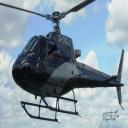helicopter: (7, 3, 128, 127)
